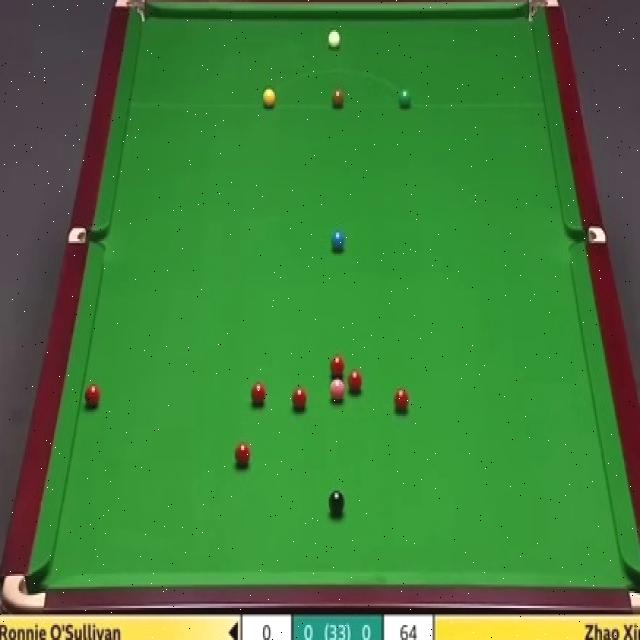black-ball: (329, 490, 346, 514)
blue-ball: (330, 229, 346, 251)
brown-ball: (331, 89, 345, 108)
green-ball: (398, 88, 412, 110)
pink-ball: (329, 378, 347, 404)
red-ball: (234, 441, 252, 467), (290, 386, 308, 412), (393, 388, 410, 414), (84, 384, 102, 408), (251, 381, 266, 407), (347, 370, 363, 394), (330, 354, 345, 377)
white-ball: (328, 28, 344, 50)
yellow-ball: (261, 85, 276, 108)
